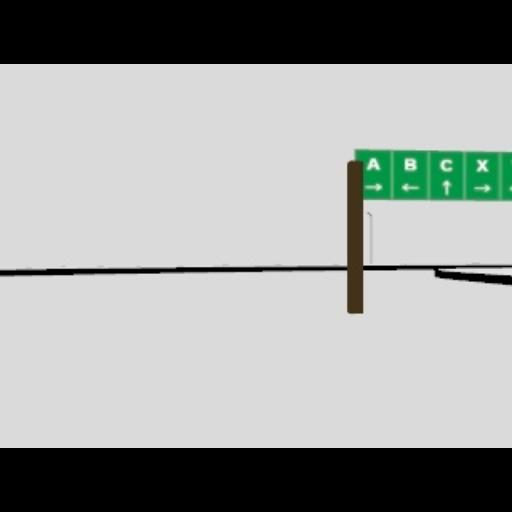A: (366, 156, 380, 170)
B: (404, 156, 416, 170)
C: (439, 158, 453, 172)
Left: (400, 182, 420, 190)
Right: (364, 182, 382, 190), (474, 184, 490, 192)
Straight: (441, 179, 451, 195)
X: (476, 158, 488, 172)
